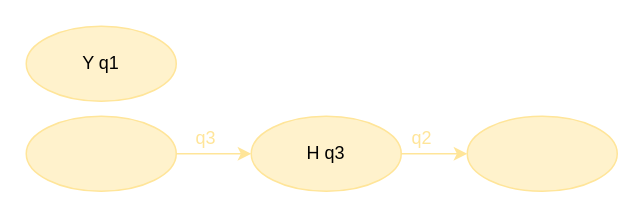
Some shapes in this 644 by 218 pixel diagram are drawn without their labels. Here are the shapes that lost their labels. From the top down, the centre of each, then its label:
At point 100,153: "X q3".
At point 541,153: "CNOT q3,q2".
